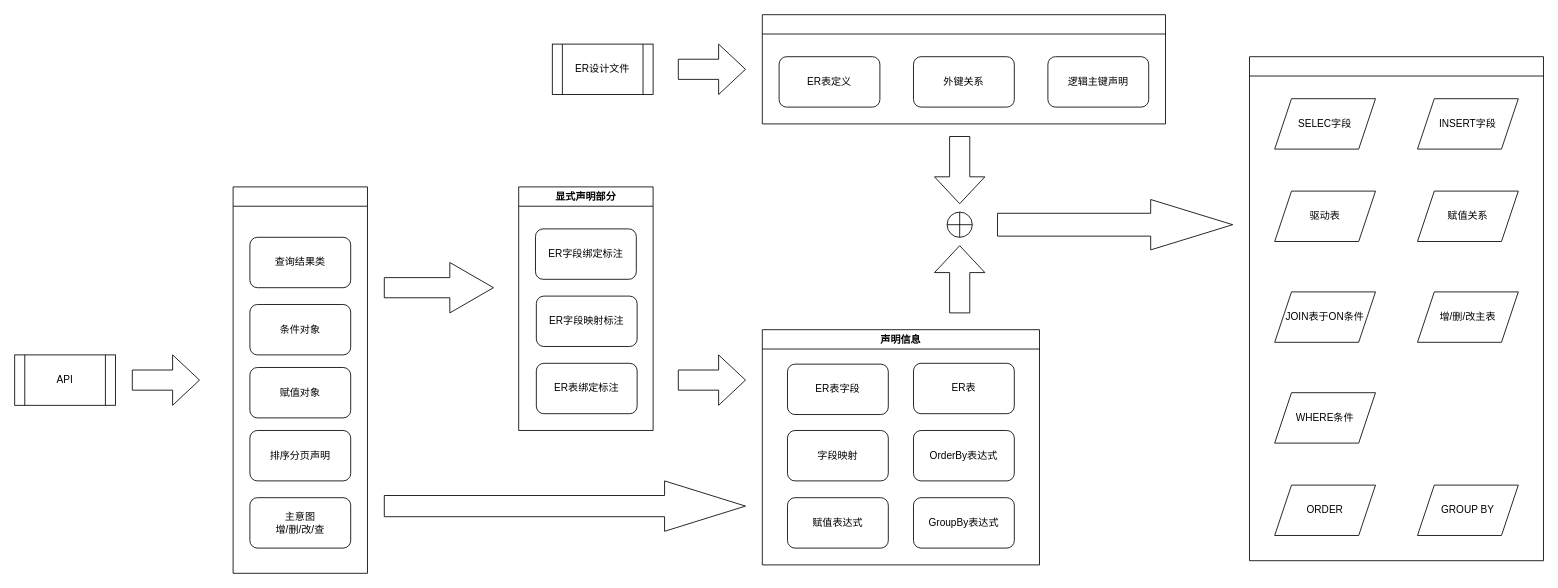
The diagram is 1558 pixels wide and 588 high, and some of its shapes have lost their labels. The shapes that lost their labels are listed below. From the top down, each one's centre as x and y in pixels, then its label:
At point 963,69: "Container".
At point 438,287: "提取类元信息".
At point 1396,308: "推导结论".
At point 300,379: "隐式声明部分".
